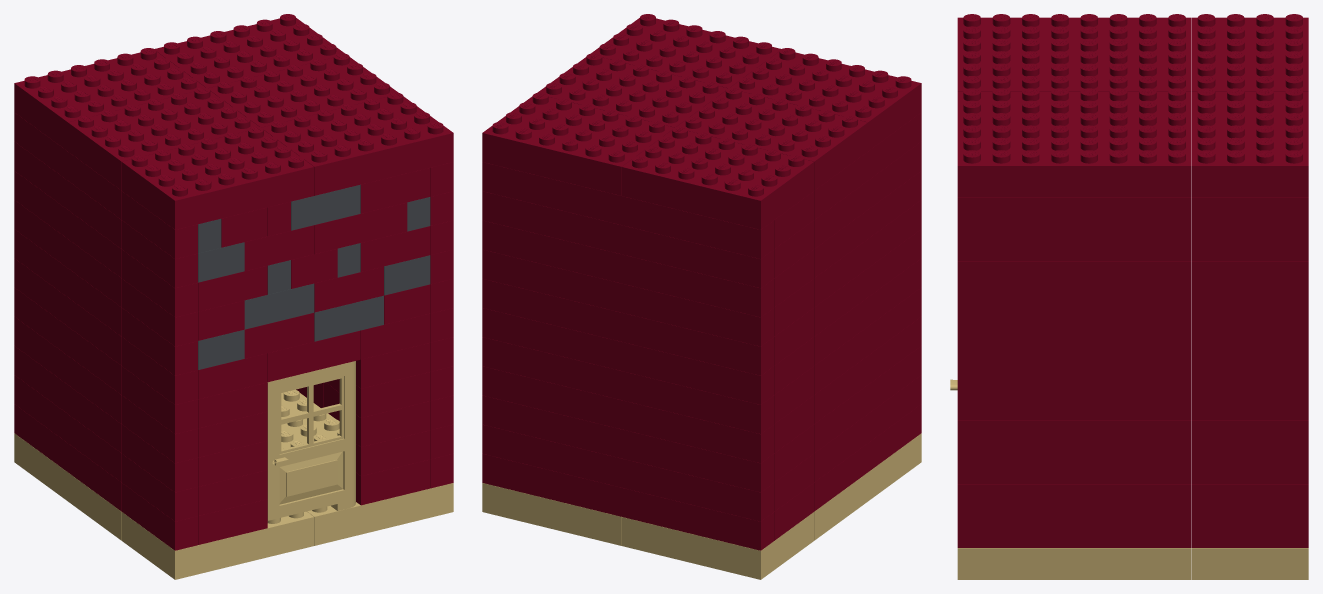
File: house3.fbx
3 renders of one model, left to right at view 1: azimuth 30°, elevation 25°; view 2: azimuth 150°, elevation 25°; view 3: azimuth 270°, elevation 25°, orthographic. The views are drawn at different scales.
Visible parts, largest first — view 1: part.121, part.120, part.009, part.122, part.123, part.125, part.124, part, part.001, part.061, part.052, part.088 (+81 smaller); view 2: part.123, part.124, part.122, part.121, part.021, part.084, part.030, part.055, part.039, part.048, part.066, part.071 (+42 smaller); view 3: part.125, part.120, part.124, part.121, part.122, part.123, part.022, part.024, part.040, part.042, part.073, part.075 (+41 smaller).
Boxes of the visible parts, x1,y1,x2,y2 form: part.121: (121, 126, 314, 229); part.120: (262, 92, 453, 195); part.009: (267, 361, 355, 520); part.122: (68, 87, 258, 190); part.123: (14, 48, 205, 150); part.125: (208, 53, 398, 127); part.124: (155, 14, 344, 88); part: (121, 511, 314, 579); part.001: (307, 483, 453, 545); part.061: (267, 330, 360, 382); part.052: (121, 337, 197, 404); part.088: (121, 249, 197, 317); part.123: (621, 126, 814, 229); part.124: (482, 92, 673, 195); part.122: (677, 87, 867, 190); part.121: (730, 48, 921, 150); part.021: (482, 424, 773, 521); part.084: (482, 220, 773, 317); part.030: (482, 395, 773, 492); part.055: (482, 308, 773, 404); part.039: (482, 366, 773, 463); part.048: (482, 337, 773, 433); part.066: (482, 278, 773, 375); part.071: (482, 249, 773, 346); part.125: (1074, 88, 1191, 197); part.120: (957, 88, 1074, 197); part.124: (1192, 88, 1308, 197); part.121: (957, 14, 1074, 91); part.122: (1074, 14, 1191, 91); part.123: (1192, 14, 1308, 91); part.022: (1074, 484, 1191, 516); part.024: (957, 484, 1074, 516); part.040: (1074, 420, 1191, 452); part.042: (957, 420, 1074, 452); part.073: (1074, 293, 1191, 325); part.075: (957, 293, 1074, 325).
Bounding box in the file's own units: 9592 × 12670 × 9796.
